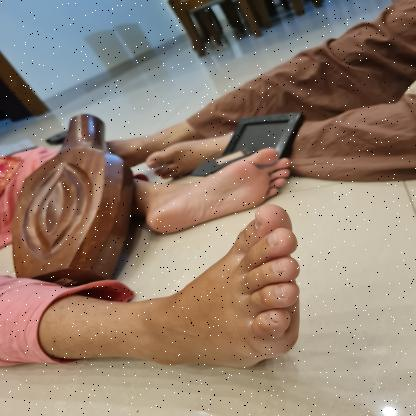leg: (128, 142, 299, 238), (139, 125, 233, 180)
